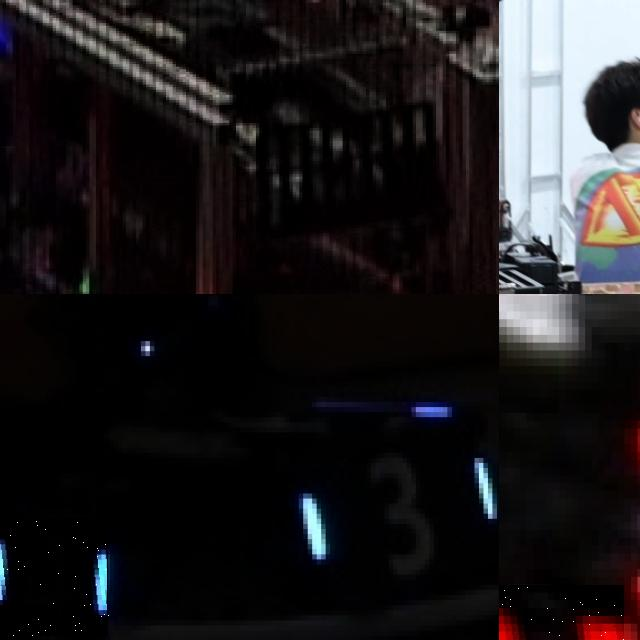B3: (294, 442, 499, 579)
B4: (0, 518, 109, 635)
R3: (499, 584, 624, 640)
